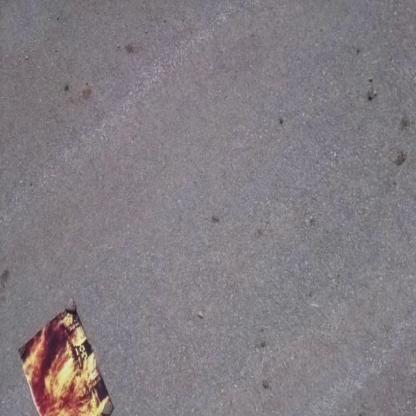fire-poster: (17, 297, 115, 415)
